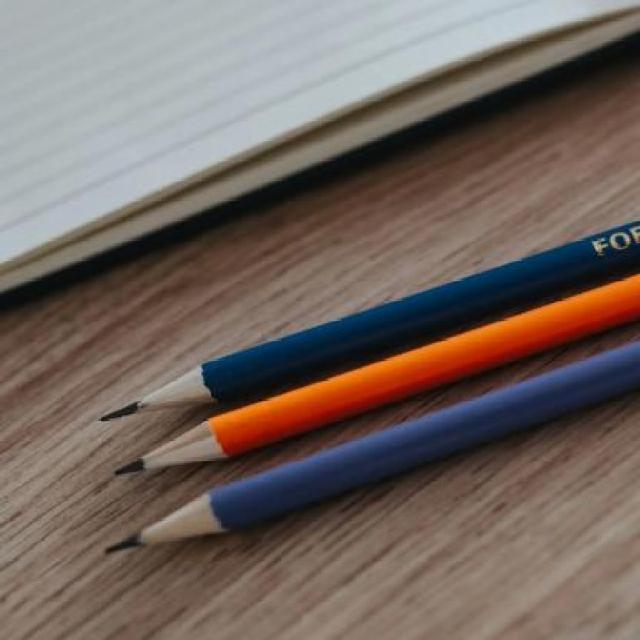pencil: (93, 334, 640, 565), (87, 216, 640, 430), (103, 269, 640, 480)
